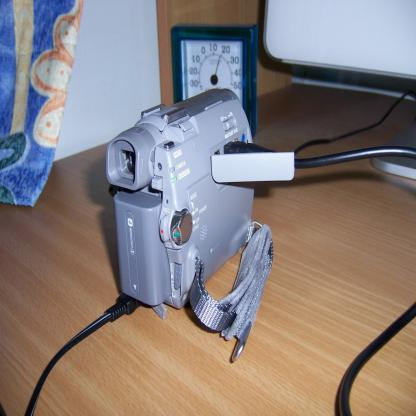Camera: (107, 85, 298, 318)
